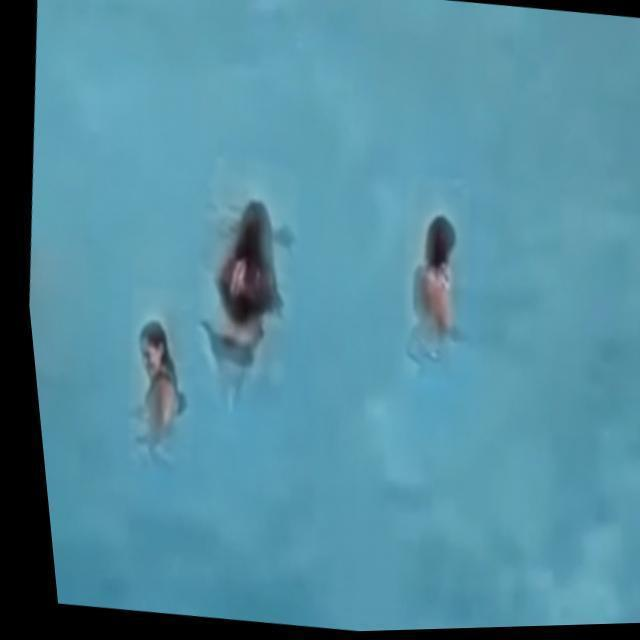swimming: (194, 192, 282, 398), (389, 203, 497, 366), (119, 322, 188, 455)
